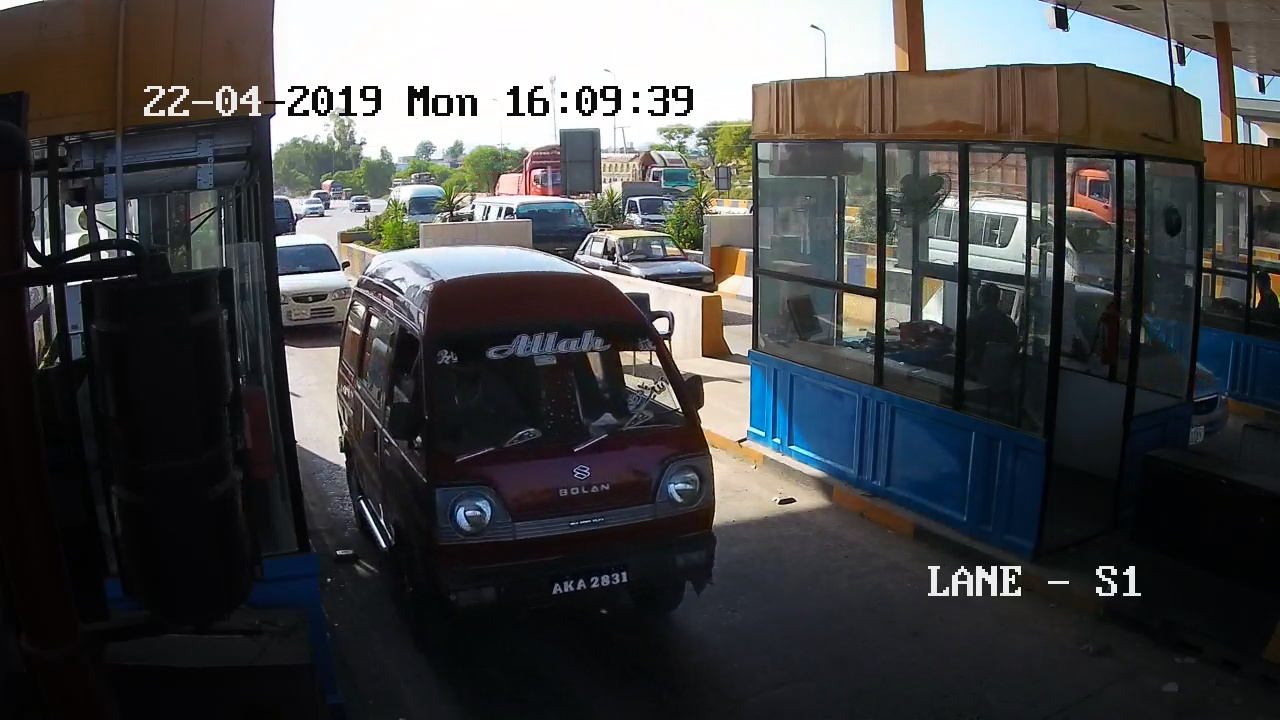Number Plate (Car): (549, 568, 632, 597), (289, 307, 312, 320)
